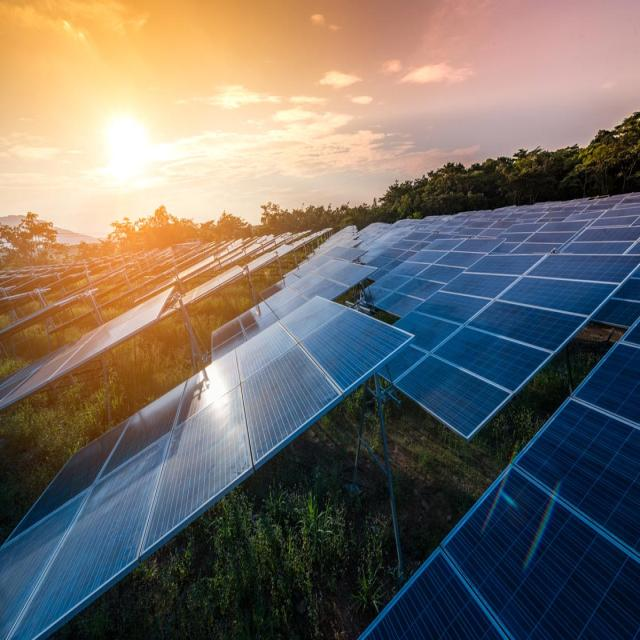clean-solar-panel: (0, 296, 412, 637), (362, 321, 640, 638), (365, 195, 640, 438)
